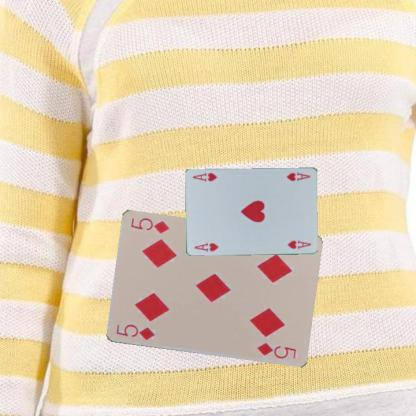5d: (113, 322, 157, 342)
Ah: (284, 169, 312, 182), (192, 240, 220, 252)
